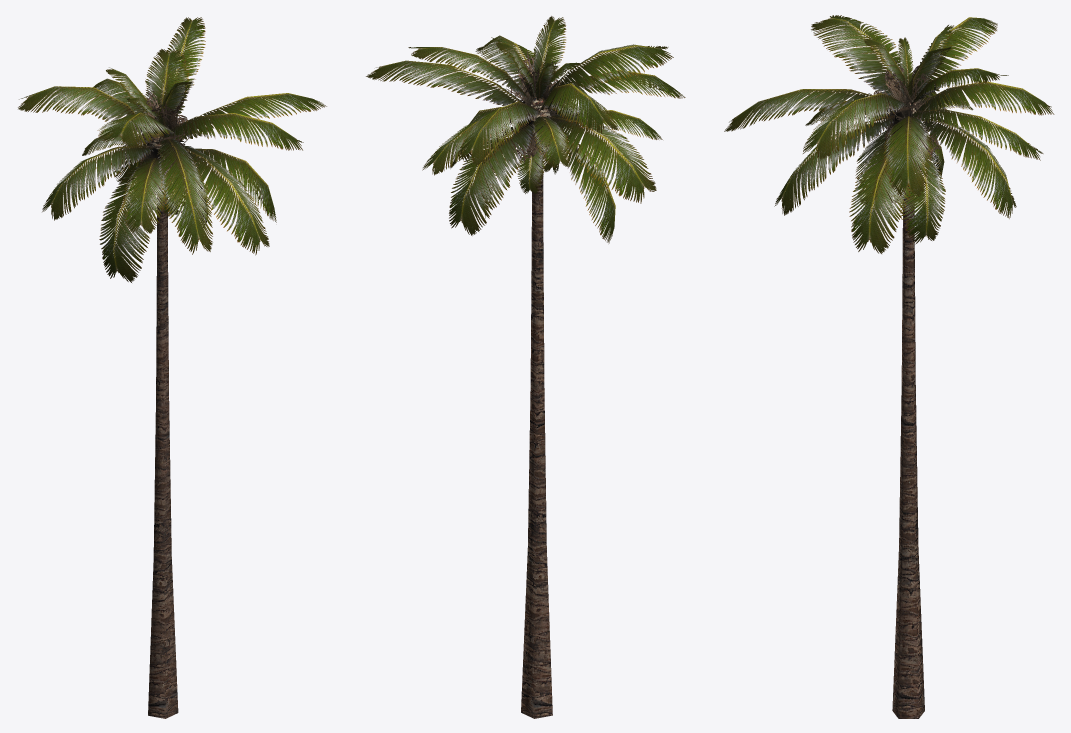
The model's file is palm_tree.glb.
The picture shows the model from 3 angles, left to right: view 1: azimuth 30°, elevation 25°; view 2: azimuth 150°, elevation 25°; view 3: azimuth 270°, elevation 25°; orthographic projection. The views are drawn at different scales.
Parts seen in each view (by area): view 1: palm_tree; view 2: palm_tree; view 3: palm_tree.
Part boxes in pixels (box(x1,y1,x2,y2)): palm_tree: box(18, 17, 326, 718); palm_tree: box(366, 16, 685, 718); palm_tree: box(724, 15, 1054, 718).
Bounding box in the file's own units: 198 × 440 × 198.
1 material, 1 textured.
